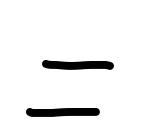eqv: (25, 60, 114, 117)
